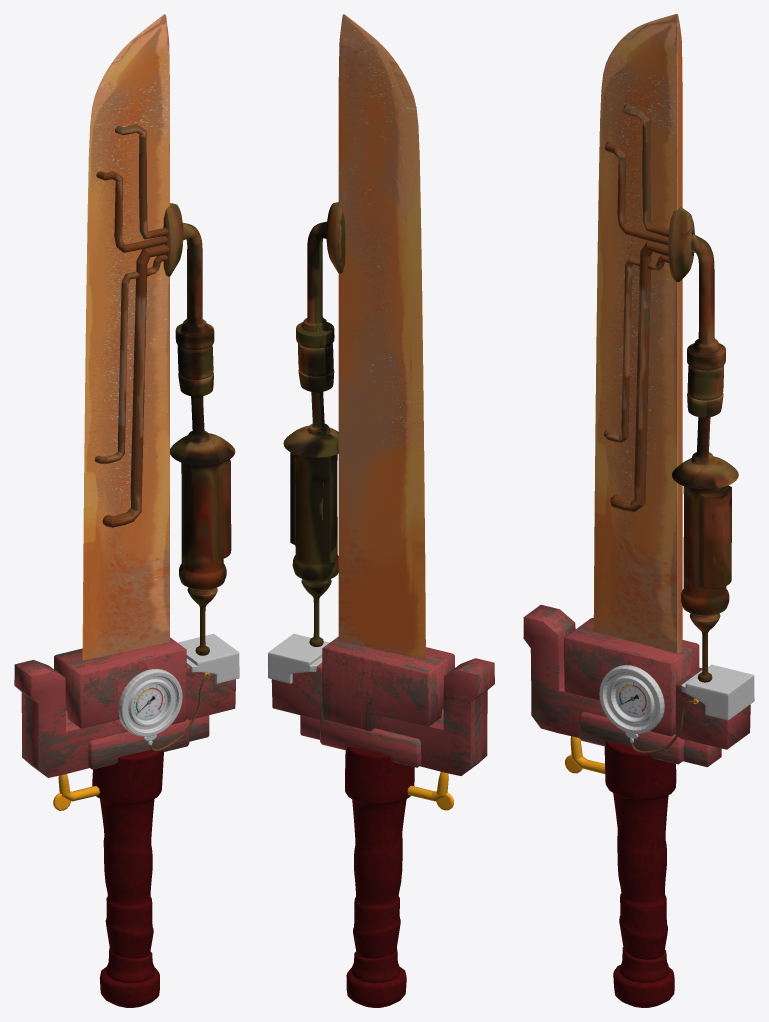
Rendered from fbxfile.fbx.
The picture shows the model from 3 angles, left to right: view 1: azimuth 30°, elevation 25°; view 2: azimuth 150°, elevation 25°; view 3: azimuth 330°, elevation 25°; orthographic projection.
Visible parts, largest first — view 1: Cube.008, Cylinder.001, Cylinder, Cylinder.002, Cube.003, Cube.005, Circle, Cube.002, Cube.006, Cube.007, Circle.003, Cube; view 2: Cube.008, Cylinder.001, Cylinder, Cube.005, Cube.003, Cube.002, Cube.006, Cube.007, Cube; view 3: Cube.008, Cylinder.001, Cylinder, Cylinder.002, Cube.005, Cube.003, Cube.006, Circle, Cube.007, Cube.002, Circle.003, Cube.004 (+1 smaller).
Part boxes in pixels (x1=…): Cube.008: x1=82, y1=14, x2=169, y2=660; Cylinder.001: x1=163, y1=203, x2=235, y2=655; Cylinder: x1=92, y1=748, x2=163, y2=1007; Cylinder.002: x1=94, y1=124, x2=169, y2=527; Cube.003: x1=14, y1=659, x2=128, y2=777; Cube.005: x1=54, y1=637, x2=186, y2=728; Circle: x1=118, y1=669, x2=182, y2=745; Cube.002: x1=88, y1=719, x2=189, y2=769; Cube.006: x1=186, y1=664, x2=235, y2=719; Cube.007: x1=178, y1=634, x2=239, y2=683; Circle.003: x1=133, y1=684, x2=166, y2=720; Cube: x1=58, y1=774, x2=99, y2=801; Cube.008: x1=338, y1=14, x2=425, y2=659; Cylinder.001: x1=283, y1=202, x2=345, y2=646; Cylinder: x1=345, y1=746, x2=414, y2=1007; Cube.005: x1=322, y1=636, x2=454, y2=731; Cube.003: x1=375, y1=658, x2=494, y2=775; Cube.002: x1=320, y1=720, x2=421, y2=767; Cube.006: x1=271, y1=663, x2=323, y2=720; Cube.007: x1=268, y1=633, x2=329, y2=683; Cube: x1=407, y1=772, x2=448, y2=801; Cube.008: x1=593, y1=14, x2=682, y2=653; Cylinder.001: x1=668, y1=207, x2=738, y2=682; Cylinder: x1=604, y1=741, x2=676, y2=1007; Cylinder.002: x1=603, y1=104, x2=669, y2=511; Cube.005: x1=564, y1=618, x2=699, y2=736; Cube.003: x1=523, y1=604, x2=606, y2=737; Cube.006: x1=675, y1=667, x2=750, y2=749; Circle: x1=599, y1=665, x2=664, y2=742; Cube.007: x1=681, y1=664, x2=754, y2=720; Cube.002: x1=579, y1=711, x2=684, y2=764; Circle.003: x1=615, y1=680, x2=649, y2=717; Cube.004: x1=683, y1=739, x2=721, y2=767.
Bounding box in the file's own units: 66.35 × 303 × 22.09.
